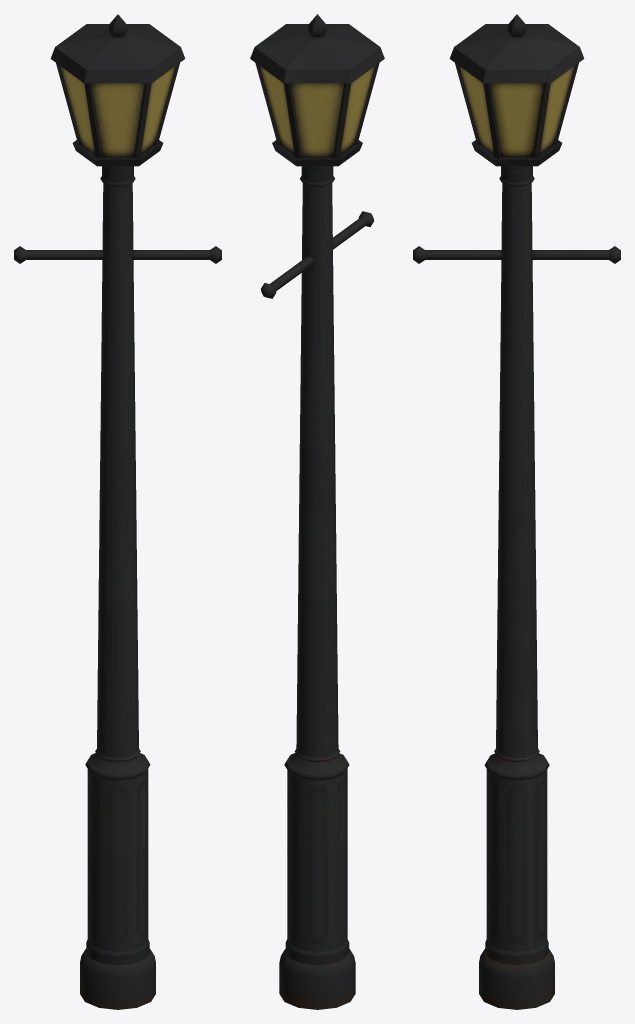
3 views of the same model, side by side, from view 1: azimuth 90°, elevation 25°; view 2: azimuth 150°, elevation 25°; view 3: azimuth 270°, elevation 25° (orthographic).
Visible parts, largest first — view 1: body0_model0_lod0_mesh0; view 2: body0_model0_lod0_mesh0; view 3: body0_model0_lod0_mesh0.
Boxes of the visible parts, box(x1,y1,x2,y2) form: body0_model0_lod0_mesh0: box(14, 14, 221, 1009); body0_model0_lod0_mesh0: box(250, 14, 384, 1009); body0_model0_lod0_mesh0: box(413, 14, 620, 1009).
Bounding box in the file's own units: 19.36 × 179 × 34.46.
Materials: 1 (1 with a texture image).
